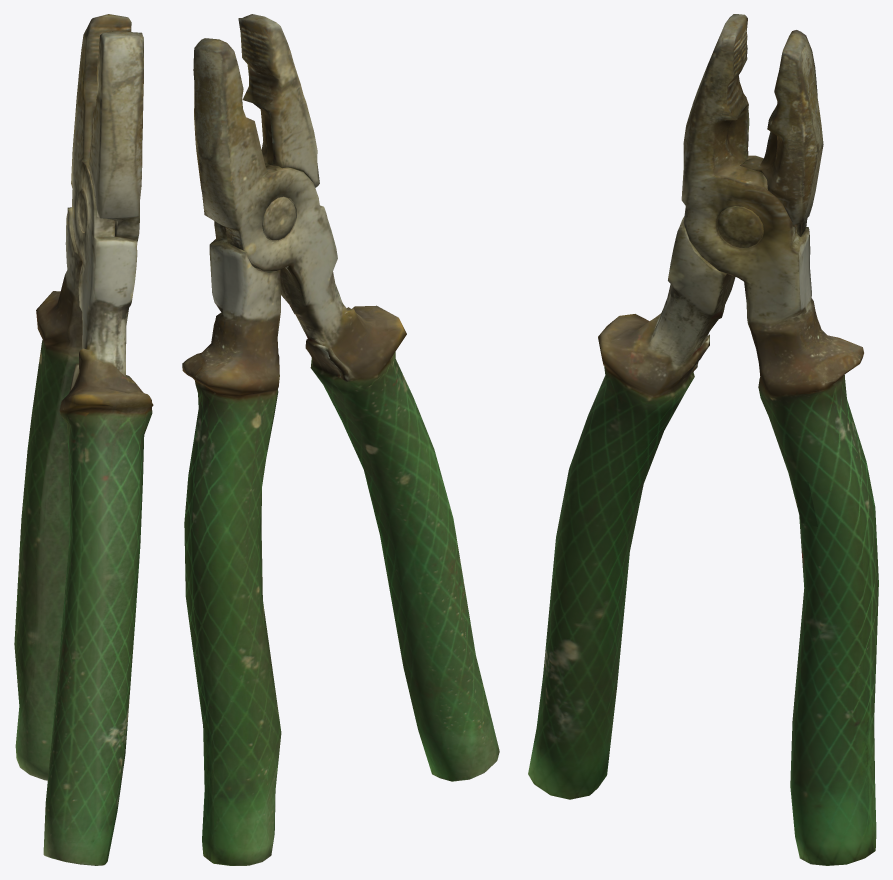
The model's file is PB59_pliers_SM_max.FBX.
The picture shows the model from 3 angles, left to right: view 1: azimuth 30°, elevation 25°; view 2: azimuth 150°, elevation 25°; view 3: azimuth 270°, elevation 25°; orthographic projection. The views are drawn at different scales.
Parts seen in each view (by area): view 1: PB59_pliers_SM_RetopoGroup1_group, group_PB59_pliers_SM_RetopoGroup1_copy1; view 2: PB59_pliers_SM_RetopoGroup1_group, group_PB59_pliers_SM_RetopoGroup1_copy1; view 3: group_PB59_pliers_SM_RetopoGroup1_copy1, PB59_pliers_SM_RetopoGroup1_group.
Part boxes in pixels (x1,y1,x2,y2): PB59_pliers_SM_RetopoGroup1_group: (43, 14, 153, 865); group_PB59_pliers_SM_RetopoGroup1_copy1: (14, 31, 143, 780); PB59_pliers_SM_RetopoGroup1_group: (193, 38, 499, 781); group_PB59_pliers_SM_RetopoGroup1_copy1: (182, 14, 319, 865); group_PB59_pliers_SM_RetopoGroup1_copy1: (681, 14, 878, 865); PB59_pliers_SM_RetopoGroup1_group: (528, 30, 823, 799).
Bounding box in the file's own units: 3.53 × 14.02 × 5.27.
Materials: 1 (1 with a texture image).
